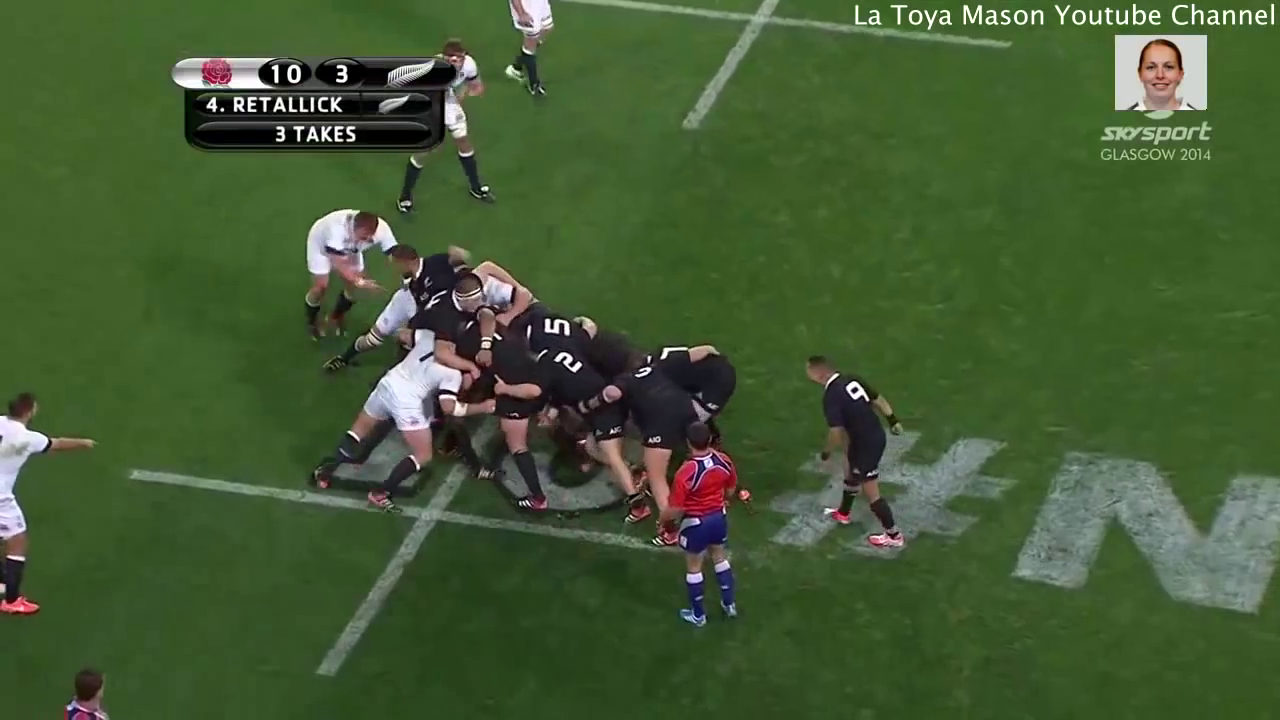10_metre: (119, 387, 750, 689), (524, 1, 1022, 140)
player: (305, 326, 483, 524), (429, 296, 566, 530), (792, 349, 916, 560), (1, 381, 108, 624), (653, 412, 758, 637), (534, 328, 646, 527), (393, 26, 505, 220), (609, 350, 714, 527), (289, 190, 401, 351), (643, 330, 737, 426), (494, 1, 573, 111), (45, 658, 127, 720)
